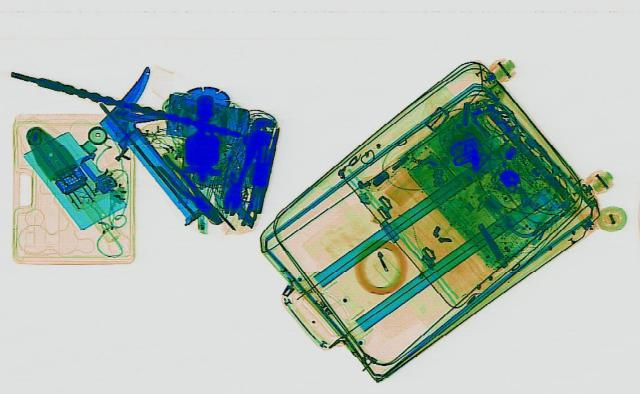Wrench: (216, 116, 268, 214)
